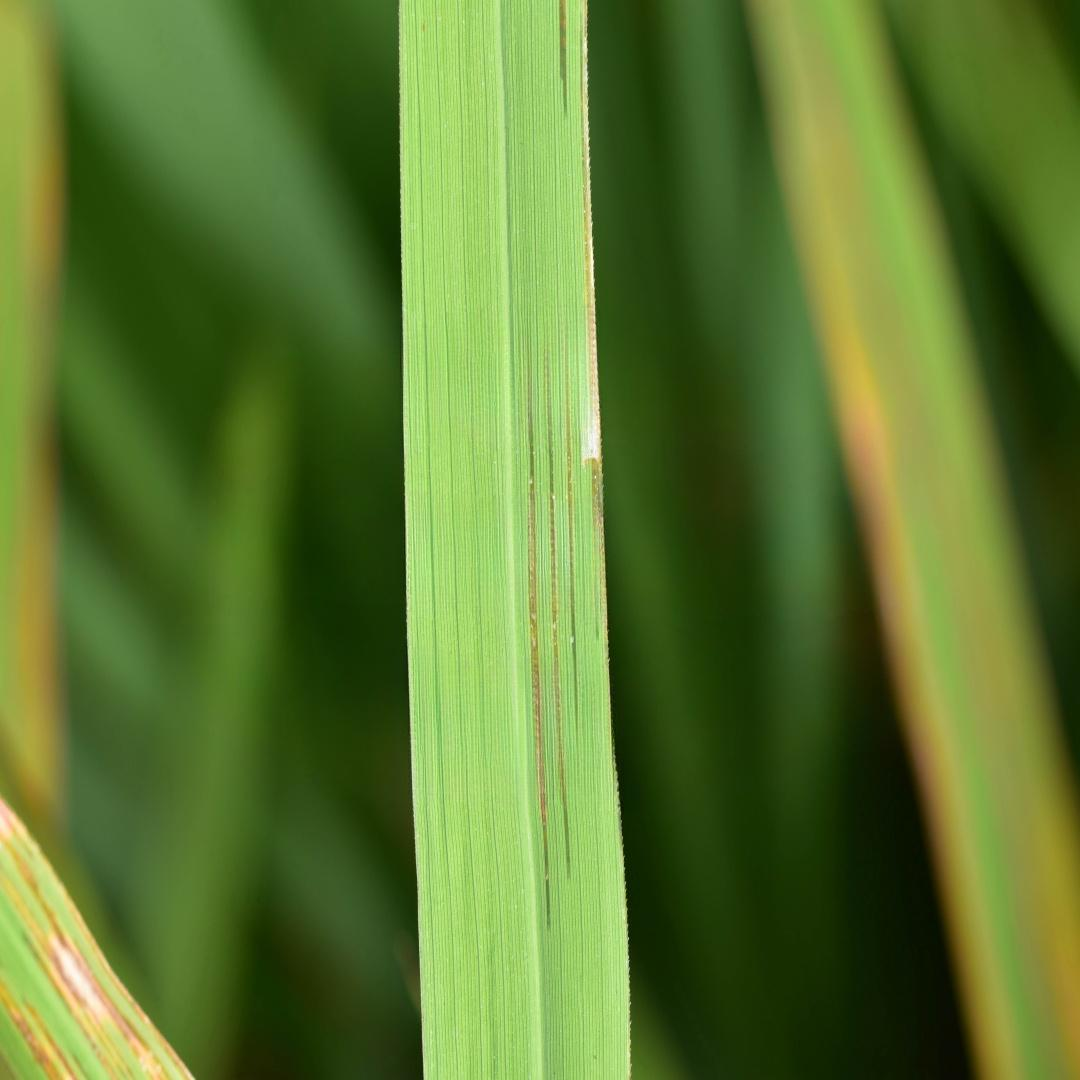BLS: (580, 1, 609, 673), (528, 336, 551, 929), (545, 342, 570, 879), (566, 382, 576, 729), (559, 0, 567, 117)
LEAF: (400, 0, 628, 1079)
